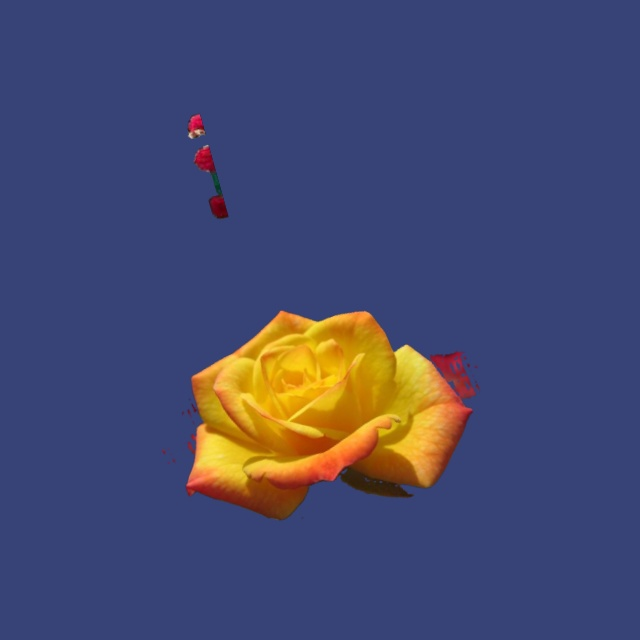rose: (163, 311, 478, 519), (188, 114, 227, 218)
